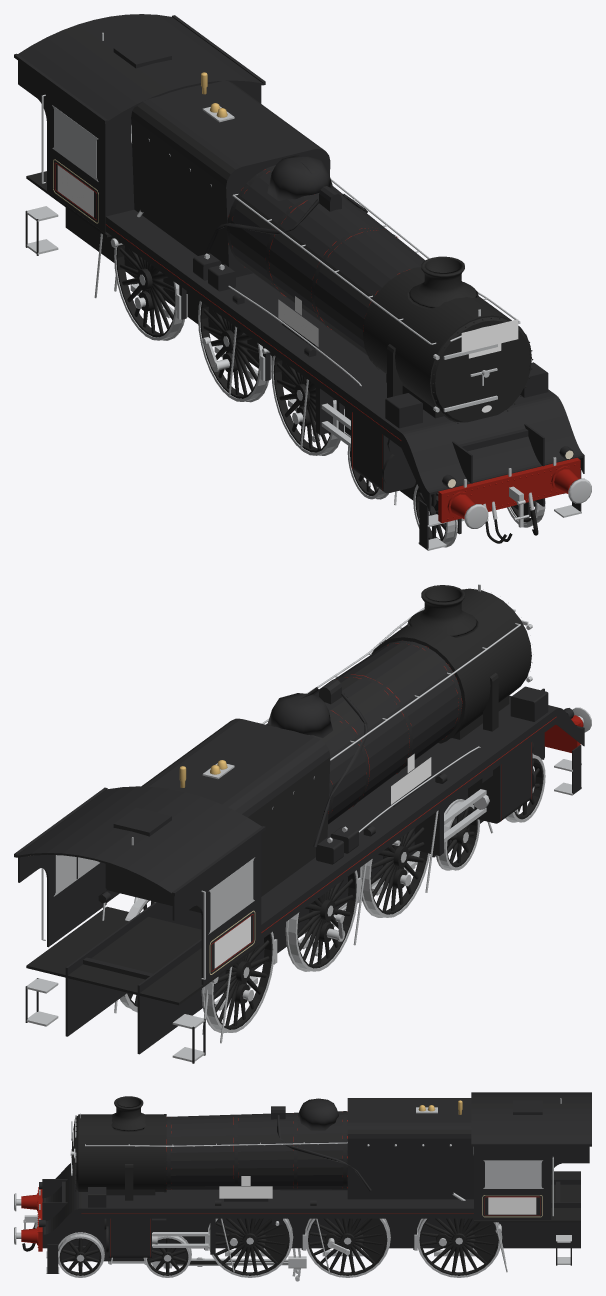
The model's file is engine_lod1.glb.
3 views of the same model, one above another, from view 1: azimuth 30°, elevation 25°; view 2: azimuth 150°, elevation 25°; view 3: azimuth 270°, elevation 25° (orthographic). The views are drawn at different scales.
Parts seen in each view (by area): view 1: engine_static_paint_black, engine_static_smokebox, engine_static_steel, engine_static_paint_red, ws_trail_wheel, ws_drive_wheel, ws_lead_wheel, ws_drive_steel, engine_static_decal_headboard, engine_static_decal_cabnum, engine_static_lining_red, ws_trail_steel (+3 smaller); view 2: engine_static_paint_black, engine_static_smokebox, engine_static_steel, ws_drive_wheel, ws_trail_wheel, ws_lead_wheel, ws_trail_steel, ws_drive_steel, ws_lead_steel, engine_static_decal_cabnum, ws_bogieRear_wheel, engine_static_lining_red (+3 smaller); view 3: engine_static_paint_black, engine_static_smokebox, engine_static_steel, ws_trail_wheel, ws_drive_wheel, ws_lead_wheel, engine_static_decal_cabnum, ws_bogieFront_wheel, engine_static_lining_red, engine_static_paint_red, ws_drive_steel, ws_bogieRear_wheel (+6 smaller).
Boxes of the visible parts, x1,y1,x2,y2 form: engine_static_paint_black: (14, 14, 584, 549); engine_static_smokebox: (26, 171, 533, 423); engine_static_steel: (26, 32, 591, 550); engine_static_paint_red: (438, 457, 580, 523); ws_trail_wheel: (116, 241, 175, 337); ws_drive_wheel: (200, 302, 259, 398); ws_lead_wheel: (273, 356, 330, 452); ws_drive_steel: (198, 301, 268, 402); engine_static_decal_headboard: (461, 319, 518, 352); engine_static_decal_cabnum: (57, 165, 93, 217); engine_static_lining_red: (54, 162, 409, 490); ws_trail_steel: (114, 240, 184, 340); engine_static_paint_black: (14, 640, 584, 1063); engine_static_smokebox: (26, 585, 532, 1005); engine_static_steel: (26, 584, 591, 1062); ws_drive_wheel: (297, 872, 356, 968); ws_trail_wheel: (127, 900, 272, 1029); ws_lead_wheel: (370, 826, 427, 914); ws_trail_steel: (120, 898, 274, 1032); ws_drive_steel: (285, 870, 358, 971); ws_lead_steel: (360, 852, 429, 917); engine_static_decal_cabnum: (214, 916, 250, 968); ws_bogieRear_wheel: (447, 806, 477, 867); engine_static_lining_red: (211, 643, 556, 971); engine_static_paint_black: (39, 1092, 591, 1273); engine_static_smokebox: (71, 1096, 580, 1222); engine_static_steel: (14, 1098, 571, 1273); ws_trail_wheel: (419, 1218, 498, 1275); ws_drive_wheel: (308, 1218, 387, 1275); ws_lead_wheel: (214, 1218, 289, 1275); engine_static_decal_cabnum: (488, 1197, 536, 1214); ws_bogieFront_wheel: (59, 1238, 101, 1275); engine_static_lining_red: (81, 1111, 540, 1256); engine_static_paint_red: (21, 1187, 42, 1251); ws_drive_steel: (305, 1218, 390, 1277); ws_bogieRear_wheel: (147, 1238, 188, 1275).
Bounding box in the file's own units: 2.82 × 4.43 × 12.64.
